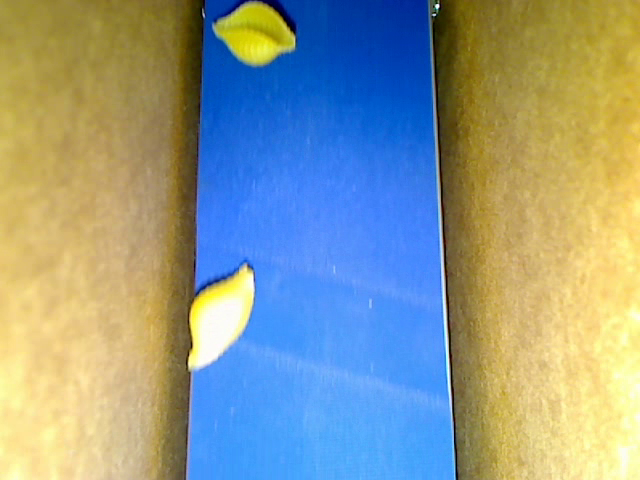shell: (186, 262, 255, 370), (212, 1, 295, 67)
